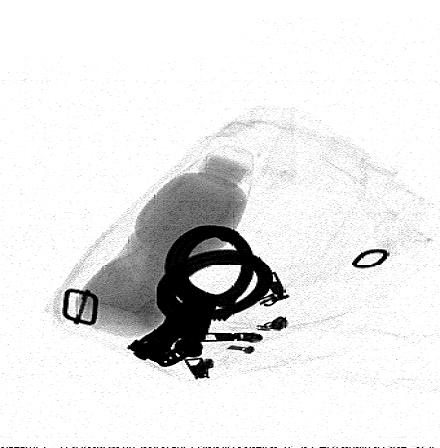HandCuffs: (127, 224, 272, 368)
